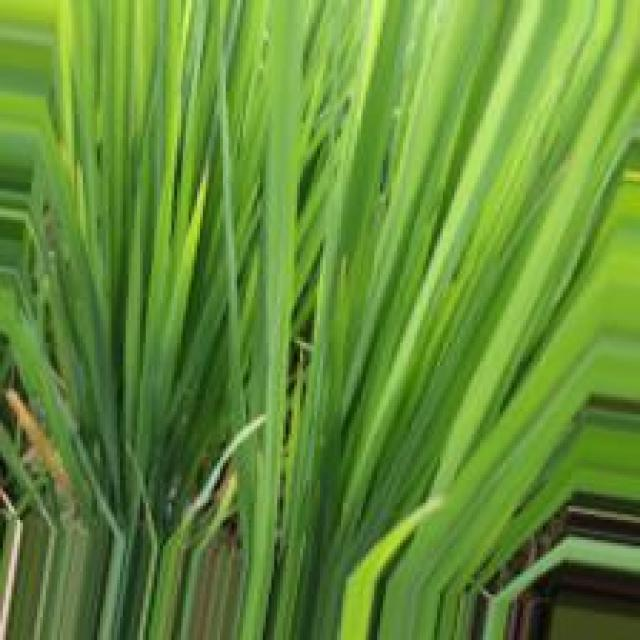HealthyLeaf: (266, 4, 640, 640), (37, 0, 228, 525)
